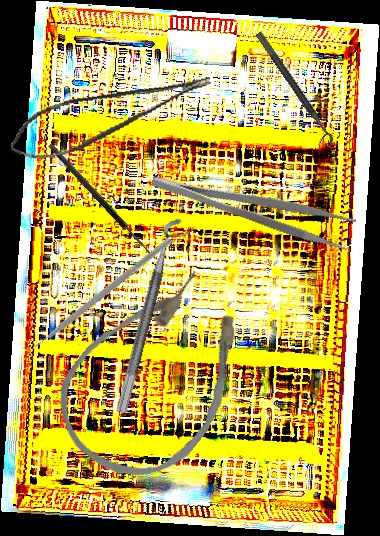Cannula: (35, 247, 280, 505)
Chopper: (14, 201, 175, 385)
Dressing Forceps: (149, 155, 357, 254)
Fixation Ring: (114, 215, 196, 419), (245, 30, 338, 154)
Hook Surgical: (46, 137, 166, 264)
Micro Scissor: (3, 69, 220, 168)
